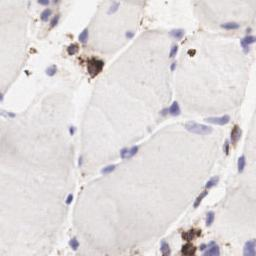nucleus: (182, 120, 213, 135), (204, 114, 230, 125), (200, 241, 219, 256), (242, 238, 256, 256), (239, 39, 251, 56), (168, 28, 186, 39), (205, 210, 216, 228), (169, 101, 181, 117), (160, 239, 171, 256), (67, 238, 81, 251), (106, 1, 119, 15), (219, 22, 241, 30), (129, 143, 139, 160), (44, 64, 57, 77), (206, 176, 220, 188), (117, 146, 130, 158), (79, 28, 88, 45), (168, 44, 179, 57), (1, 109, 16, 118), (40, 9, 51, 21), (102, 164, 115, 174), (239, 154, 245, 171), (66, 193, 74, 204), (125, 31, 136, 39), (159, 108, 168, 117), (69, 126, 77, 136), (237, 129, 243, 141), (170, 62, 177, 70), (245, 37, 256, 42), (78, 154, 82, 167), (53, 16, 58, 25), (38, 1, 49, 5), (1, 93, 5, 103), (222, 137, 228, 143), (54, 1, 59, 3)
positive_cell: (194, 190, 209, 207), (232, 124, 242, 149), (50, 13, 62, 32), (64, 41, 79, 54), (222, 135, 229, 154)
